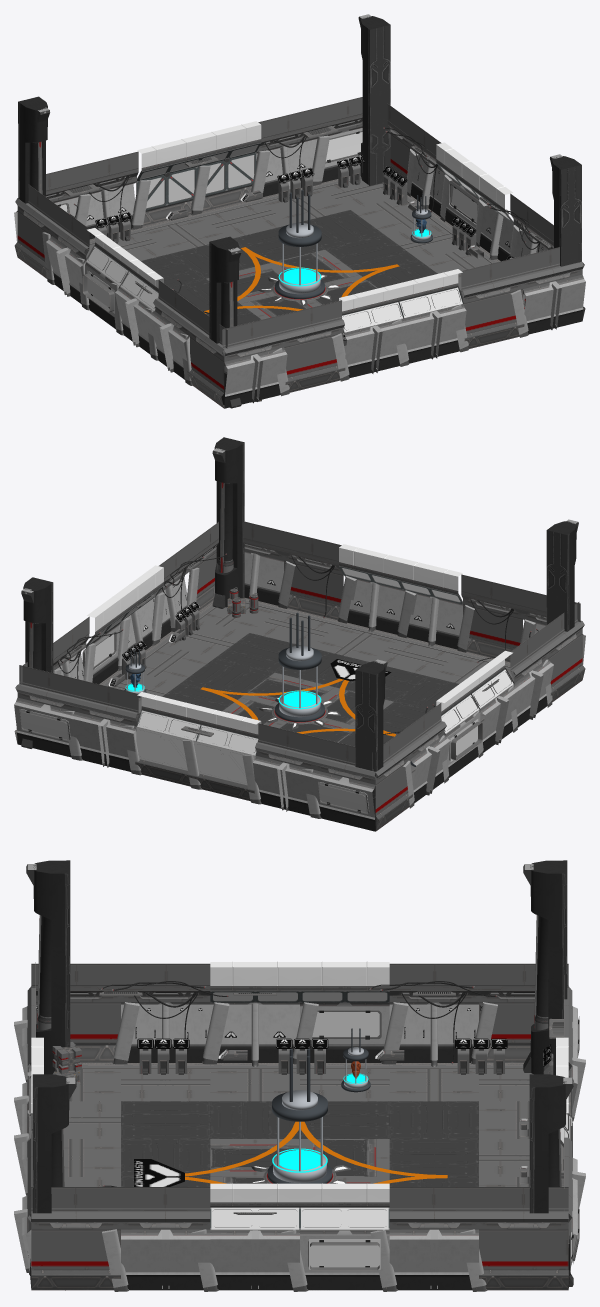
The model's file is lab.glb.
The picture shows the model from 3 angles, top to bottom: view 1: azimuth 30°, elevation 25°; view 2: azimuth 150°, elevation 25°; view 3: azimuth 270°, elevation 25°; orthographic projection. The views are drawn at different scales.
Parts seen in each view (by area): view 1: Column_Large_Straight.002, Column_Large_Straight.001, Column_Large_Straight.003, Column_Large_Straight, WallAstra_Straight.007, WallAstra_Straight.004, WallAstra_Straight.006, WallAstra_Straight.005, WallBand_Straight.005, WallBand_Straight.004, TopWindow_Straight.007, WallWindow_Straight.001 (+60 smaller); view 2: Column_Large_Straight.003, Column_Large_Straight, Column_Large_Straight.001, Column_Large_Straight.002, WallAstra_Straight_Window, WallAstra_Straight_Window.001, WallAstra_Straight.002, WallAstra_Straight.003, WallWindow_Straight.001, WallWindow_Straight, WallAstra_Straight.006, WallBand_Straight.005 (+59 smaller); view 3: Column_Large_Straight.001, Column_Large_Straight, WallBand_Straight.002, WallAstra_Straight_Divided.003, WallAstra_Straight_Divided.002, WallAstra_Straight.001, WallBand_Straight.003, WallAstra_Straight_Flat_Window.001, Column_Large_Straight.002, Column_Large_Straight.003, TopWindow_Straight.002, TopWindow_Straight.003 (+58 smaller).
Boxes of the visible parts, <box> form: Column_Large_Straight.002: <box>358,14,390,185</box>; Column_Large_Straight.001: <box>209,236,241,408</box>; Column_Large_Straight.003: <box>550,154,581,266</box>; Column_Large_Straight: <box>18,96,50,203</box>; WallAstra_Straight.007: <box>523,274,585,334</box>; WallAstra_Straight.004: <box>224,347,287,408</box>; WallAstra_Straight.006: <box>404,304,466,363</box>; WallAstra_Straight.005: <box>344,319,406,377</box>; WallBand_Straight.005: <box>463,289,524,348</box>; WallBand_Straight.004: <box>284,333,345,392</box>; TopWindow_Straight.007: <box>398,269,463,318</box>; WallWindow_Straight.001: <box>196,152,256,211</box>; Column_Large_Straight.003: <box>212,437,244,608</box>; Column_Large_Straight: <box>355,659,387,830</box>; Column_Large_Straight.001: <box>546,519,578,631</box>; Column_Large_Straight.002: <box>21,577,53,748</box>; WallAstra_Straight_Window: <box>312,770,375,831</box>; WallAstra_Straight_Window.001: <box>14,697,76,757</box>; WallAstra_Straight.002: <box>253,756,315,815</box>; WallAstra_Straight.003: <box>73,712,136,771</box>; WallWindow_Straight.001: <box>135,727,195,786</box>; WallWindow_Straight: <box>195,741,255,800</box>; WallAstra_Straight.006: <box>344,575,404,634</box>; WallBand_Straight.005: <box>284,560,343,620</box>; Column_Large_Straight.001: <box>26,860,70,1074</box>; Column_Large_Straight: <box>523,860,567,1075</box>; WallBand_Straight.002: <box>479,1229,568,1290</box>; WallAstra_Straight_Divided.003: <box>121,1229,210,1290</box>; WallAstra_Straight_Divided.002: <box>389,1229,478,1290</box>; WallAstra_Straight.001: <box>210,1230,299,1290</box>; WallBand_Straight.003: <box>31,1229,120,1290</box>; WallAstra_Straight_Flat_Window.001: <box>300,1230,389,1290</box>; Column_Large_Straight.002: <box>529,1074,573,1286</box>; Column_Large_Straight.003: <box>32,1074,76,1213</box>; TopWindow_Straight.002: <box>300,1183,389,1230</box>; TopWindow_Straight.003: <box>210,1183,299,1230</box>.
Size of the model in its own units: 25.55 by 10.56 by 25.55.
Materials: 83 (65 with a texture image).
